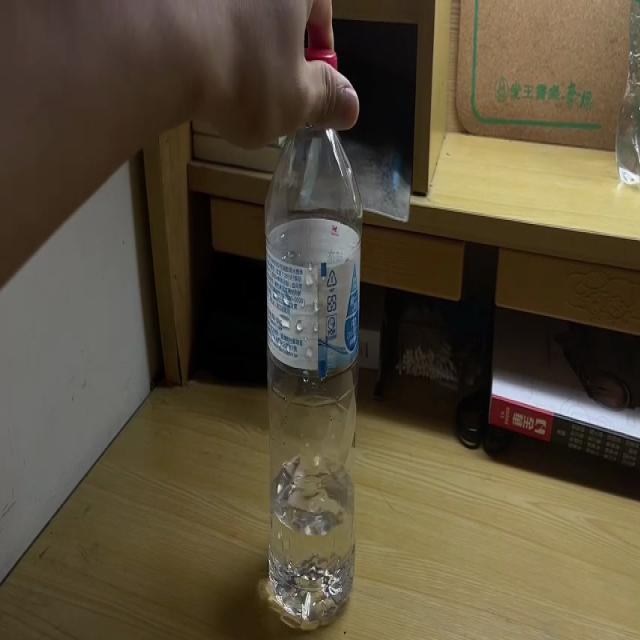Water: (263, 43, 361, 628)
